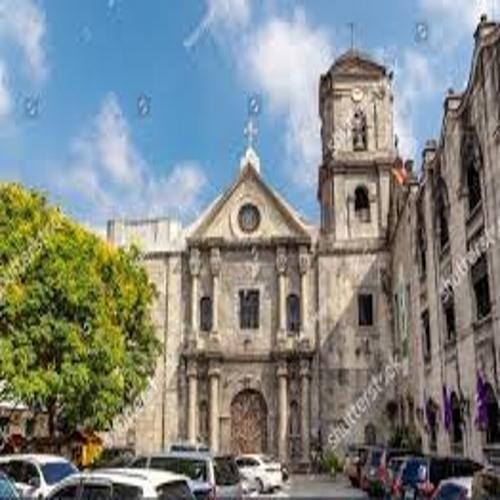San Agustin Church: (171, 20, 401, 473)
